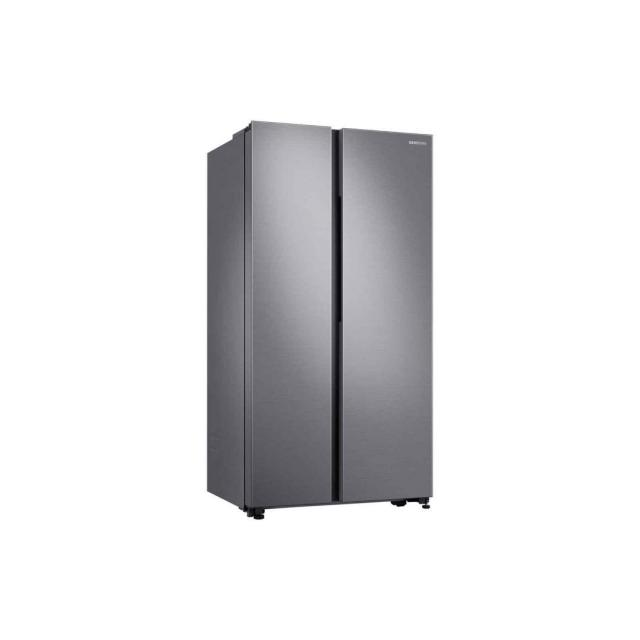refrigerator: (246, 119, 435, 507)
